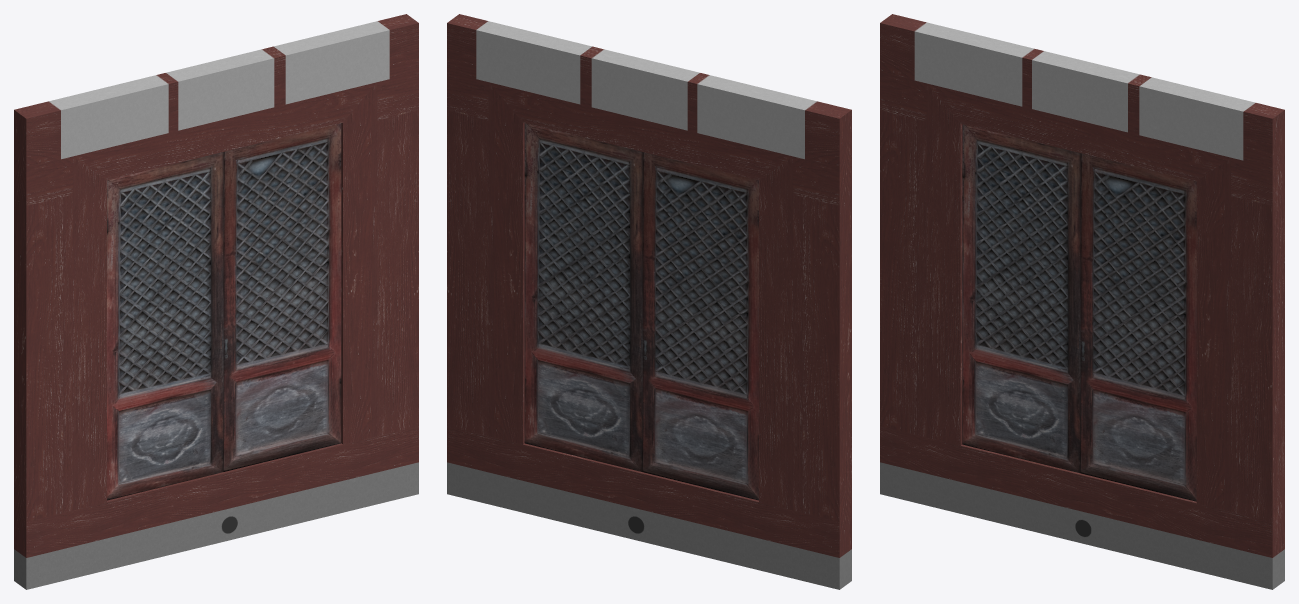
File: SM_Sun_Bul_Wall_C.fbx
3 renders of one model, left to right at view 1: azimuth 30°, elevation 25°; view 2: azimuth 150°, elevation 25°; view 3: azimuth 330°, elevation 25°, orthographic.
Visible parts, largest first — view 1: SM_Sun_Bul_Wall_C; view 2: SM_Sun_Bul_Wall_C; view 3: SM_Sun_Bul_Wall_C.
Part boxes in pixels (x1,y1,x2,y2): SM_Sun_Bul_Wall_C: [14, 14, 418, 589]; SM_Sun_Bul_Wall_C: [447, 14, 851, 589]; SM_Sun_Bul_Wall_C: [880, 14, 1284, 589].
Size of the model in its own units: 276 by 317 by 15.
